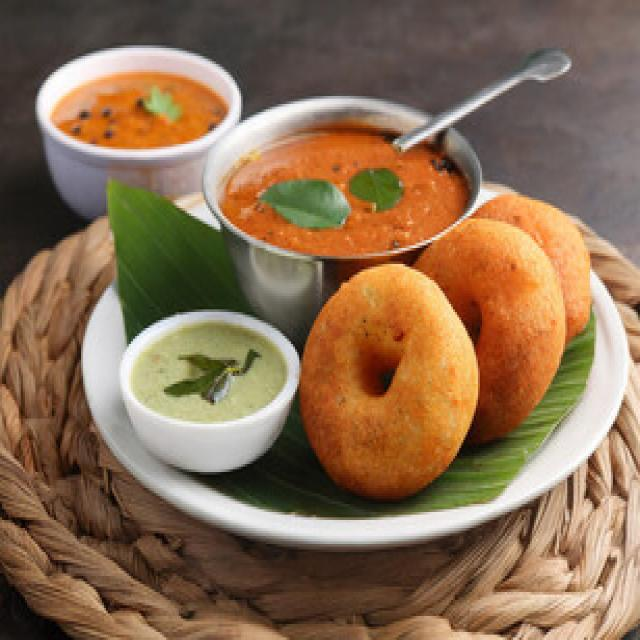RED CHUTNEY: (220, 129, 473, 255)
SAMBAR: (59, 75, 222, 147)
VADA: (302, 194, 594, 495)
WHITE CHUTNEY: (142, 323, 286, 422)
